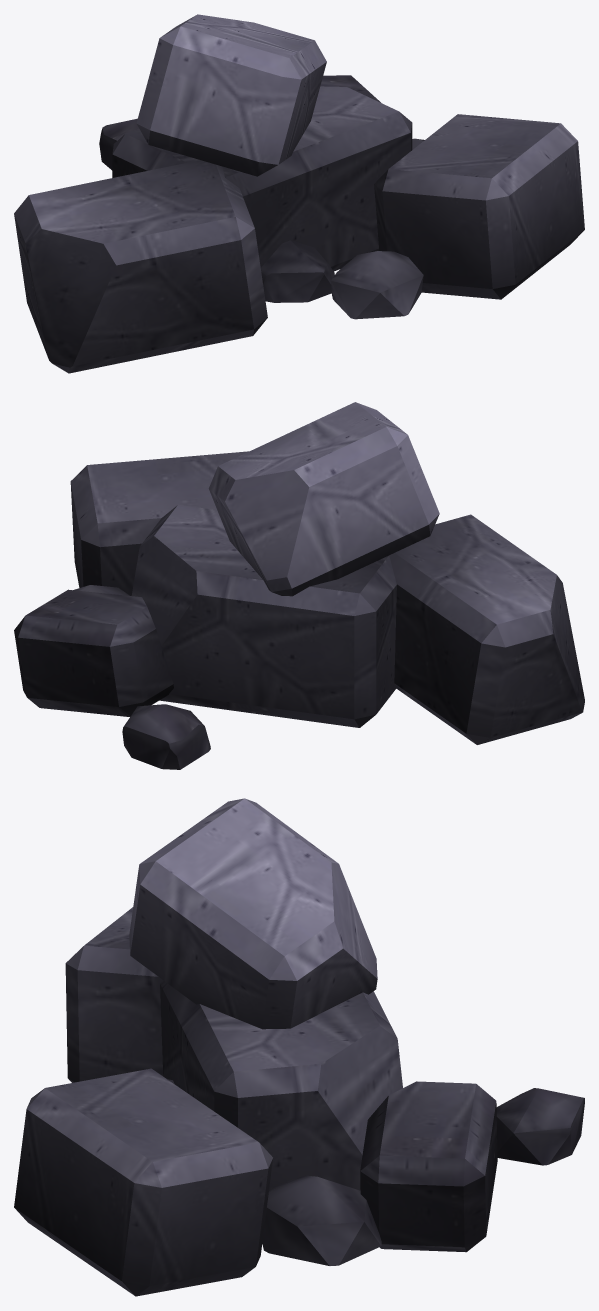
Rendered from dng_rubble_a.glb.
The picture shows the model from 3 angles, top to bottom: view 1: azimuth 30°, elevation 25°; view 2: azimuth 150°, elevation 25°; view 3: azimuth 270°, elevation 25°; orthographic projection. The views are drawn at different scales.
Parts seen in each view (by area): view 1: dng_rubble_a; view 2: dng_rubble_a; view 3: dng_rubble_a.
Boxes of the visible parts, bbox=[...] form: dng_rubble_a: bbox=[14, 14, 584, 373]; dng_rubble_a: bbox=[14, 402, 584, 769]; dng_rubble_a: bbox=[14, 798, 584, 1296].
Size of the model in its own units: 1.2 by 0.6303 by 1.
Materials: 1 (1 with a texture image).
